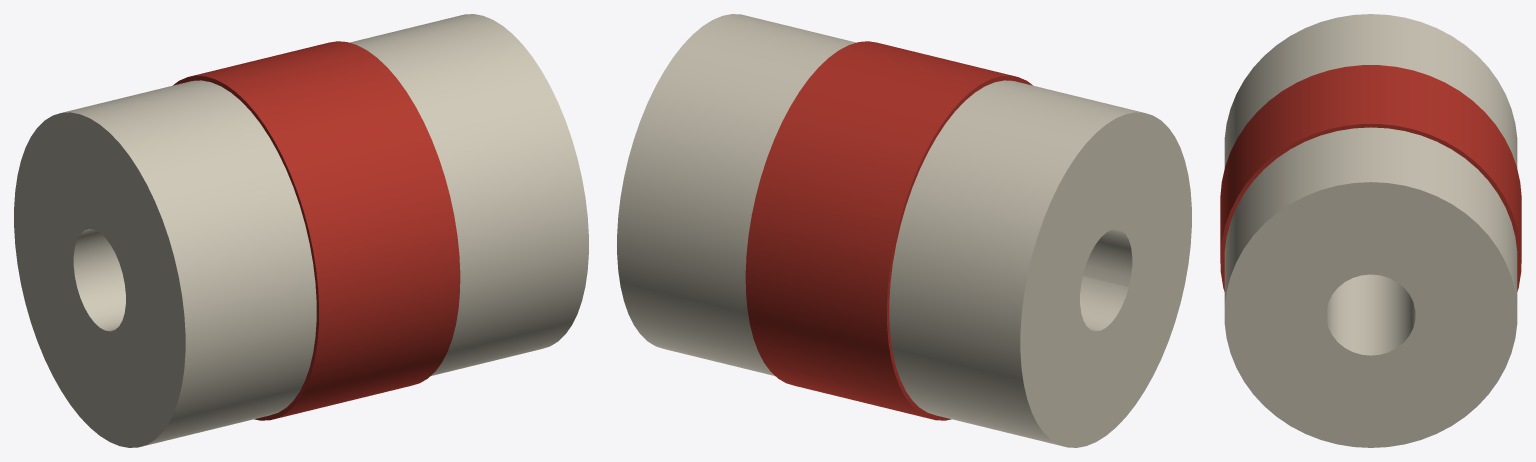
3 renders of one model, left to right at view 1: azimuth 30°, elevation 25°; view 2: azimuth 150°, elevation 25°; view 3: azimuth 270°, elevation 25°, orthographic. The views are drawn at different scales.
Visible parts, largest first — view 1: core, sleeve; view 2: core, sleeve; view 3: core, sleeve.
Boxes of the visible parts, bbox=[...] form: core: bbox=[14, 14, 588, 447]; sleeve: bbox=[173, 41, 460, 420]; core: bbox=[617, 14, 1191, 447]; sleeve: bbox=[745, 41, 1032, 420]; core: bbox=[1224, 14, 1517, 447]; sleeve: bbox=[1220, 65, 1521, 291].
Bounding box in the file's own units: 0.08 × 0.0606 × 0.0606.
